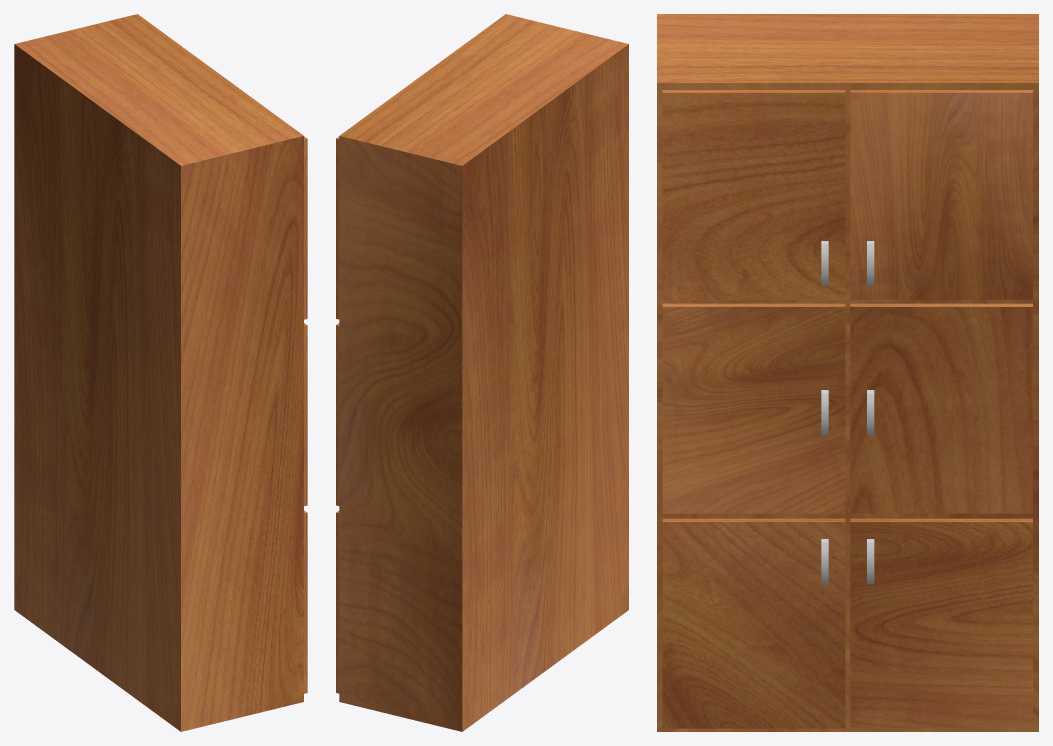
The model's file is szafka2.fbx.
The picture shows the model from 3 angles, left to right: view 1: azimuth 30°, elevation 25°; view 2: azimuth 150°, elevation 25°; view 3: azimuth 270°, elevation 25°; orthographic projection. The views are drawn at different scales.
Parts seen in each view (by area): view 1: Cube.006; view 2: Cube.006; view 3: Cube.006.
Boxes of the visible parts, bbox=[...] form: Cube.006: bbox=[14, 14, 307, 731]; Cube.006: bbox=[336, 14, 628, 731]; Cube.006: bbox=[657, 14, 1038, 731].
Size of the model in its own units: 77.2 by 300 by 160.
Materials: 2 (1 with a texture image).
